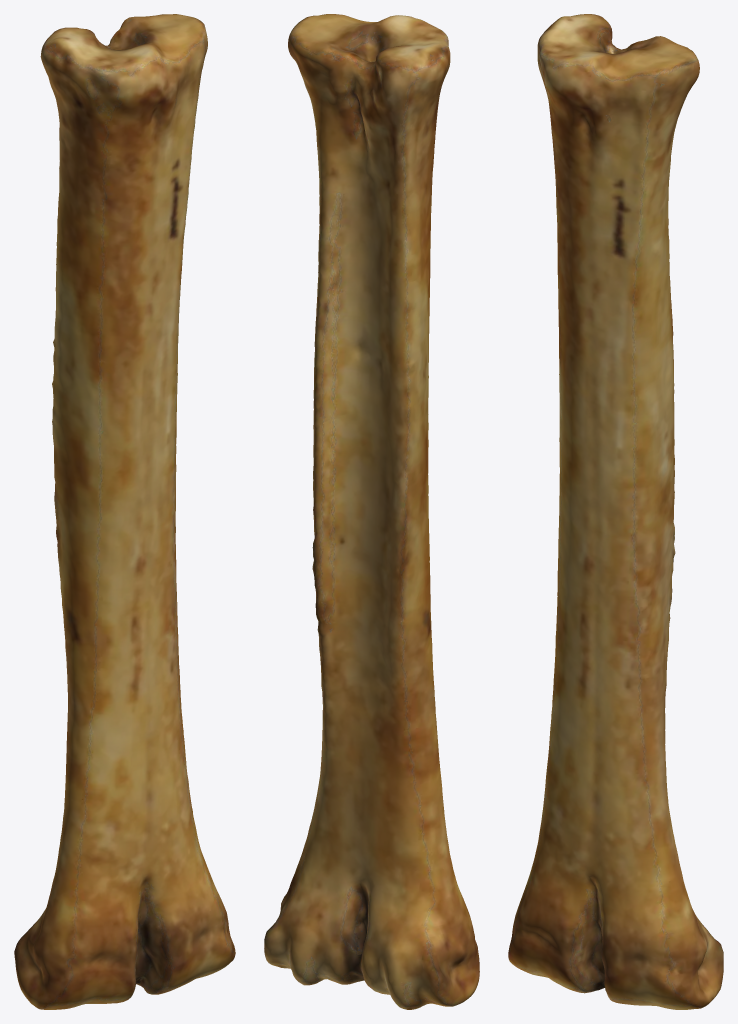
The model's file is metacarpal.glb.
The picture shows the model from 3 angles, left to right: view 1: azimuth 30°, elevation 25°; view 2: azimuth 150°, elevation 25°; view 3: azimuth 330°, elevation 25°; orthographic projection.
Visible parts, largest first — view 1: Alpaca Left Metacarpal; view 2: Alpaca Left Metacarpal; view 3: Alpaca Left Metacarpal.
Part boxes in pixels (<box>): Alpaca Left Metacarpal: <box>14,14,235,1009</box>; Alpaca Left Metacarpal: <box>264,14,479,1009</box>; Alpaca Left Metacarpal: <box>508,14,723,1009</box>.
Bounding box in the file's own units: 0.0391 × 0.1868 × 0.0228.
Materials: 1 (1 with a texture image).
